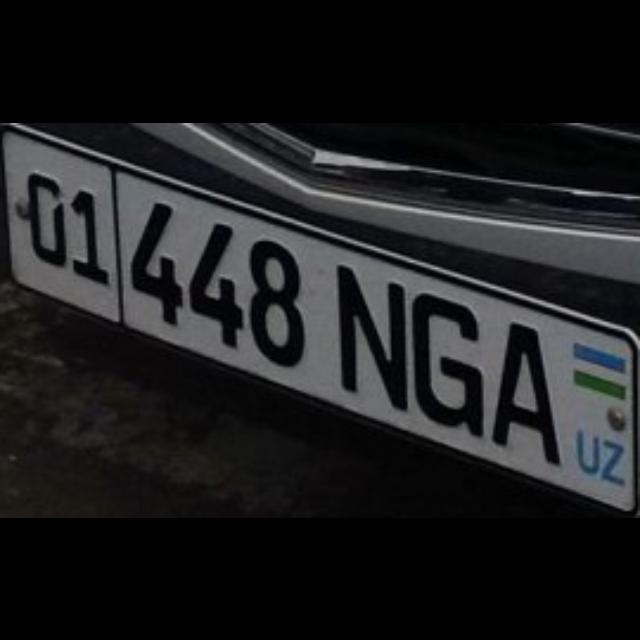0: (24, 170, 62, 264)
1: (69, 186, 107, 284)
4: (184, 219, 242, 345), (128, 200, 180, 324)
8: (244, 236, 304, 364)
A: (488, 319, 558, 461)
G: (411, 290, 482, 436)
N: (334, 259, 406, 406)
